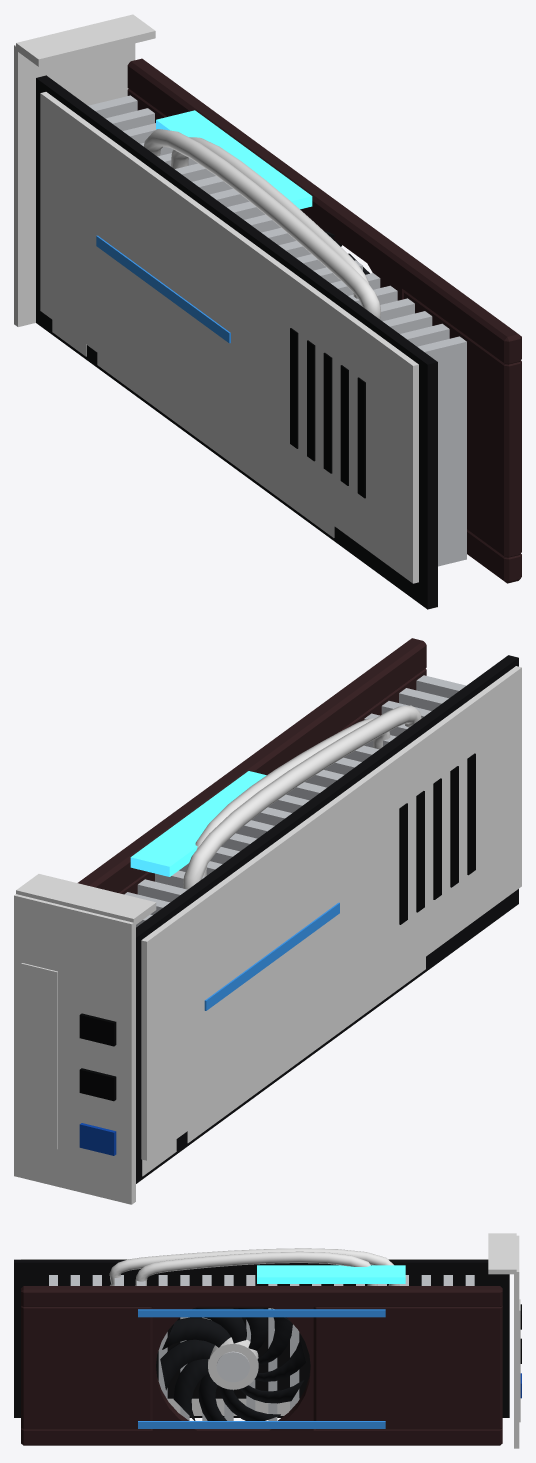
Rendered from hw_gpu_gtx1650.glb.
3 renders of one model, top to bottom at view 1: azimuth 30°, elevation 25°; view 2: azimuth 150°, elevation 25°; view 3: azimuth 270°, elevation 25°, orthographic. The views are drawn at different scales.
Parts seen in each view (by area): view 1: Body; view 2: Body; view 3: Body, Rotor_X_0.
Part boxes in pixels (x1,y1,x2,y2): Body: [14, 14, 521, 609]; Body: [14, 638, 521, 1204]; Body: [14, 1233, 521, 1448]; Rotor_X_0: [160, 1308, 306, 1420].
Bounding box in the file's own units: 0.0367 × 0.0831 × 0.2138.
